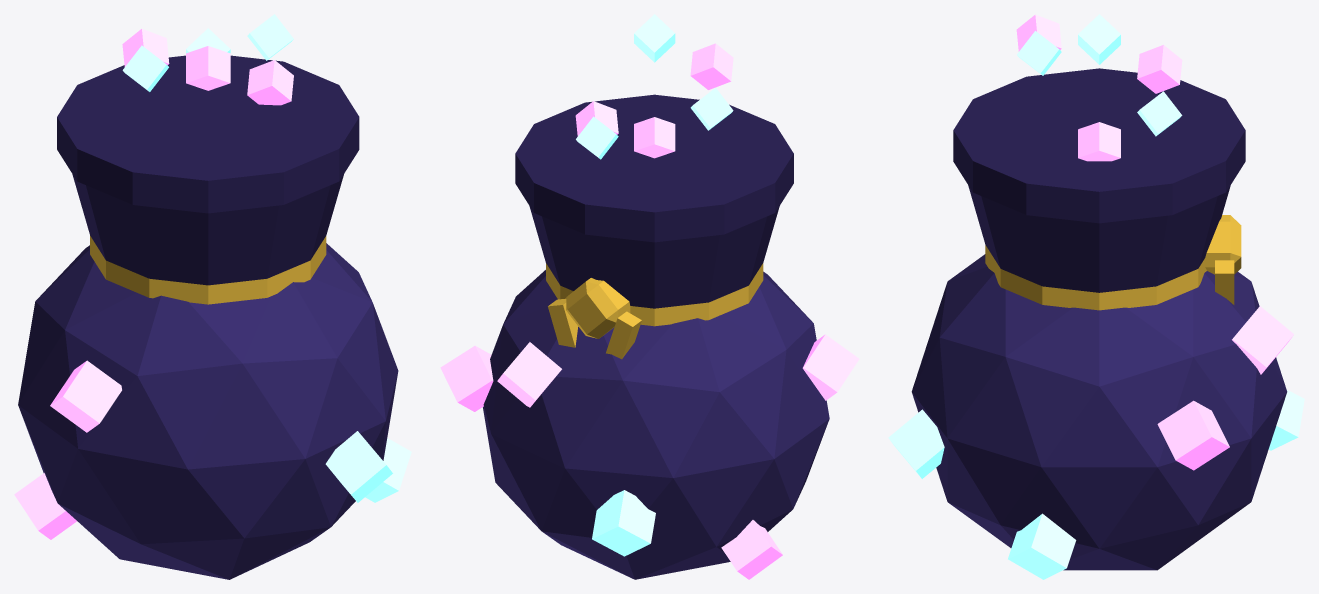
Rendered from bag_infinite.glb.
The picture shows the model from 3 angles, left to right: view 1: azimuth 30°, elevation 25°; view 2: azimuth 150°, elevation 25°; view 3: azimuth 270°, elevation 25°; orthographic projection. The views are drawn at different scales.
Visible parts, largest first — view 1: Fabric__34286E, Fabric__261C54, Neon__FF78DC, Neon__78E6FF, SmoothPlastic__FAC83C; view 2: Fabric__34286E, Fabric__261C54, Neon__FF78DC, SmoothPlastic__FAC83C, Neon__78E6FF; view 3: Fabric__34286E, Fabric__261C54, Neon__78E6FF, Neon__FF78DC, SmoothPlastic__FAC83C.
Part boxes in pixels (x1=…): Fabric__34286E: x1=18, y1=243, x2=398, y2=579; Fabric__261C54: x1=57, y1=55, x2=359, y2=285; Neon__FF78DC: x1=14, y1=29, x2=293, y2=539; Neon__78E6FF: x1=122, y1=14, x2=411, y2=502; SmoothPlastic__FAC83C: x1=90, y1=236, x2=326, y2=304; Fabric__34286E: x1=483, y1=270, x2=829, y2=579; Fabric__261C54: x1=515, y1=94, x2=793, y2=308; Neon__FF78DC: x1=440, y1=43, x2=859, y2=579; SmoothPlastic__FAC83C: x1=546, y1=263, x2=763, y2=359; Neon__78E6FF: x1=576, y1=14, x2=733, y2=556; Fabric__34286E: x1=911, y1=254, x2=1287, y2=570; Fabric__261C54: x1=953, y1=68, x2=1245, y2=292; Neon__78E6FF: x1=888, y1=14, x2=1304, y2=579; Neon__FF78DC: x1=1016, y1=14, x2=1293, y2=470; SmoothPlastic__FAC83C: x1=985, y1=215, x2=1241, y2=310.
Bounding box in the file's own units: 2.88 × 4.34 × 2.99.
